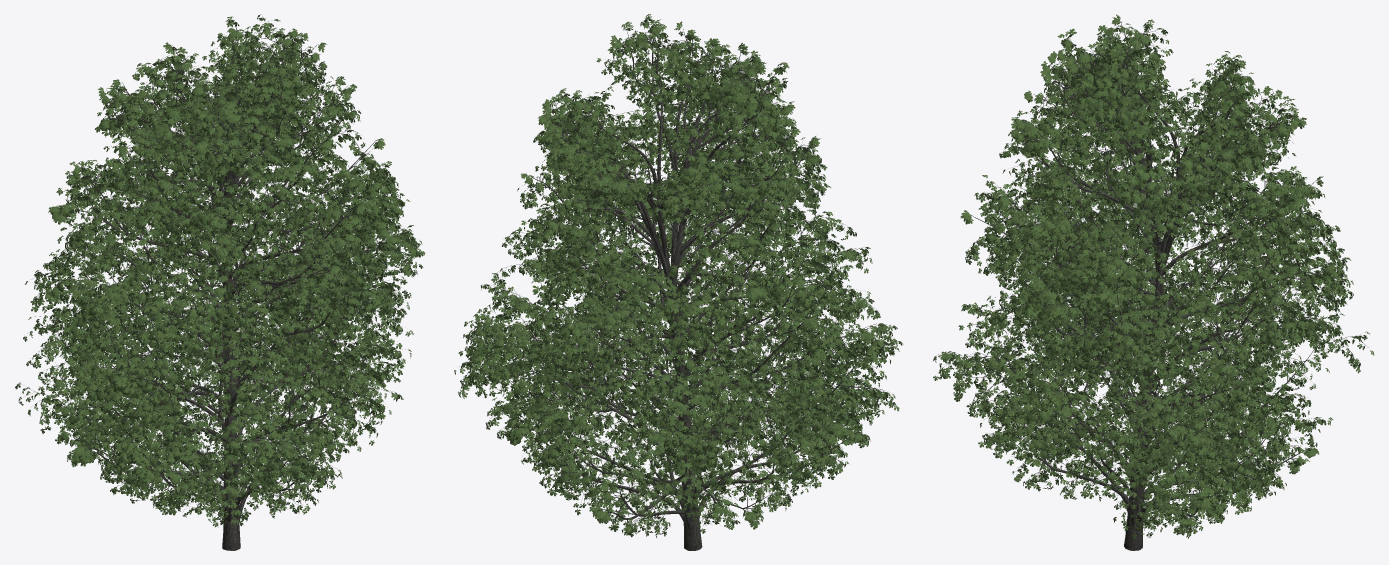
The model's file is Arbre_webp_draco.glb.
3 renders of one model, left to right at view 1: azimuth 30°, elevation 25°; view 2: azimuth 150°, elevation 25°; view 3: azimuth 270°, elevation 25°, orthographic. The views are drawn at different scales.
Visible parts, largest first — view 1: Tree_Aesculus-hippocastanum_A_summer; view 2: Tree_Aesculus-hippocastanum_A_summer; view 3: Tree_Aesculus-hippocastanum_A_summer.
Part boxes in pixels (x1,y1,x2,y2): Tree_Aesculus-hippocastanum_A_summer: [15, 14, 425, 550]; Tree_Aesculus-hippocastanum_A_summer: [454, 14, 903, 550]; Tree_Aesculus-hippocastanum_A_summer: [933, 14, 1374, 550].
Bounding box in the file's own units: 28.17 × 35.82 × 27.17.
Materials: 2 (2 with a texture image).
